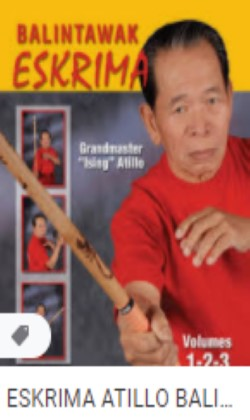baston_e: (5, 141, 141, 346), (31, 117, 40, 171)
baston_v: (32, 113, 37, 120)
